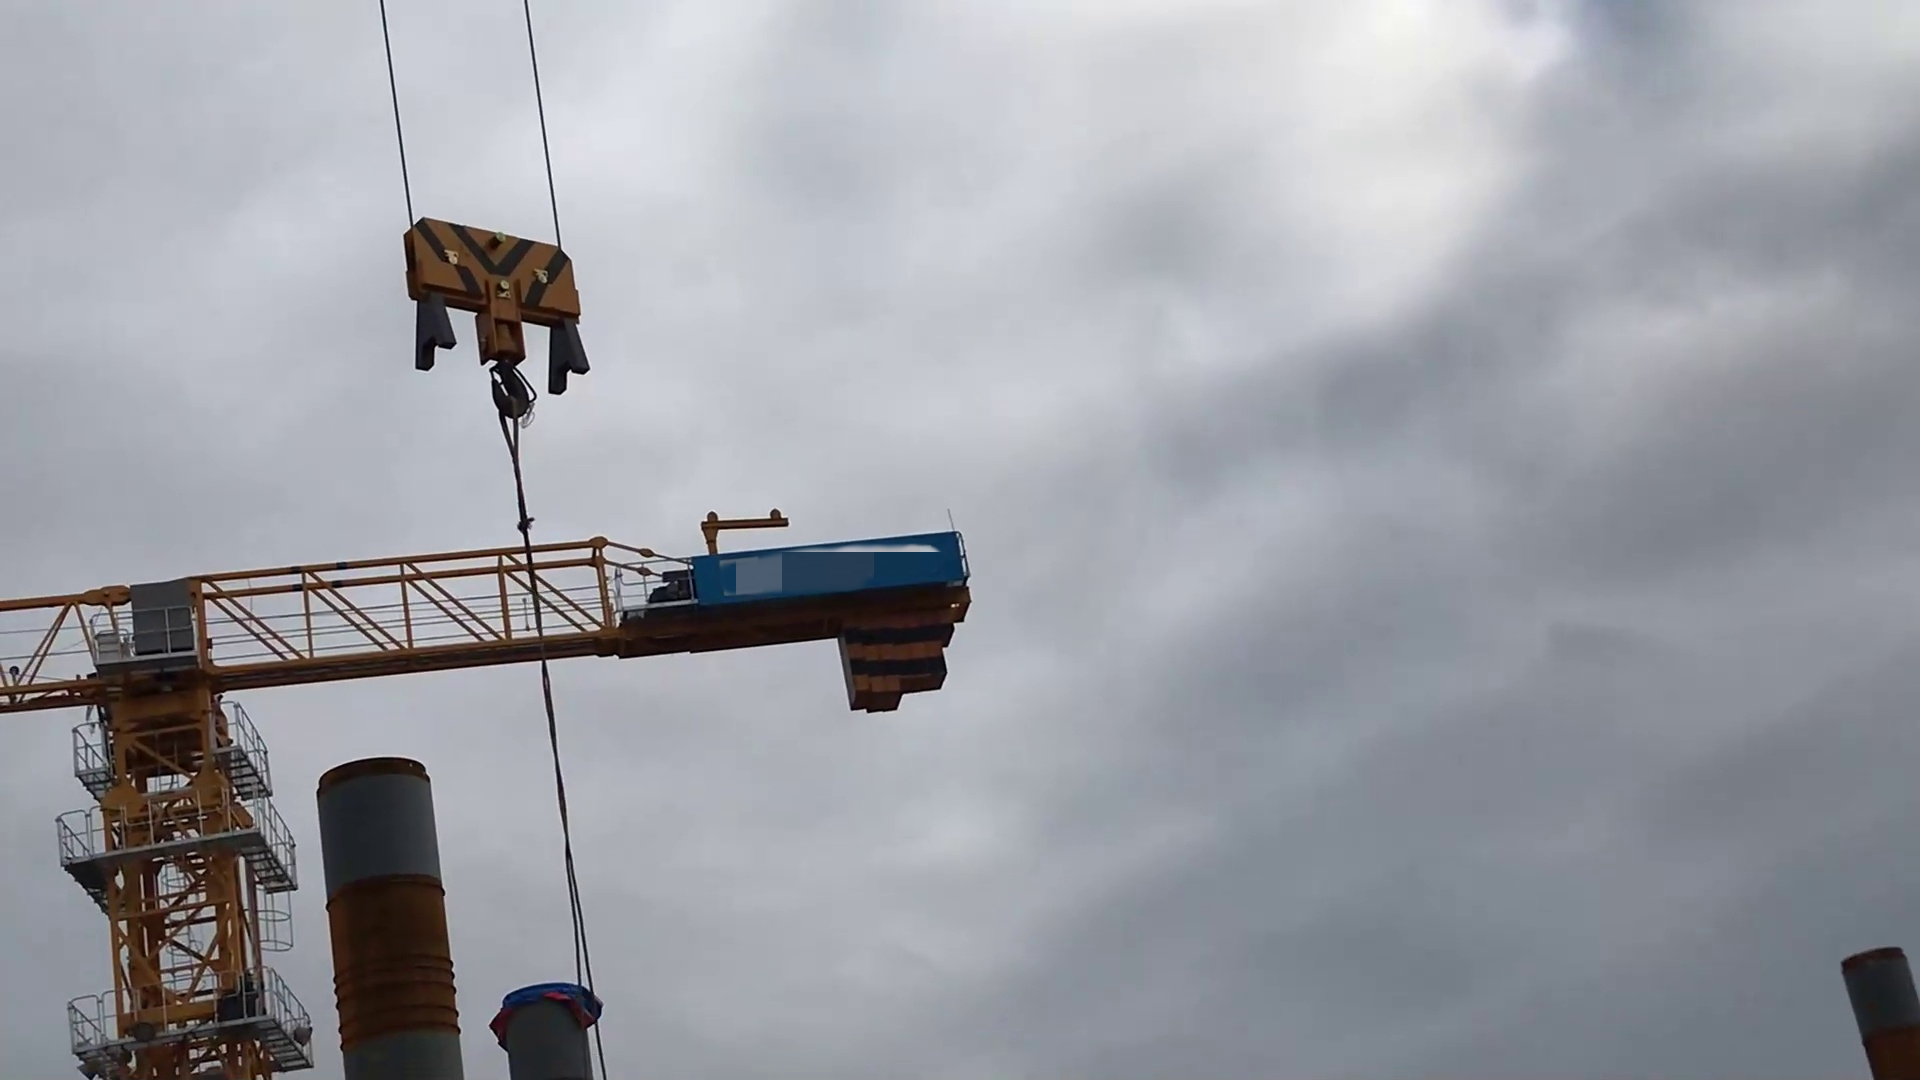hook: (396, 206, 600, 429)
